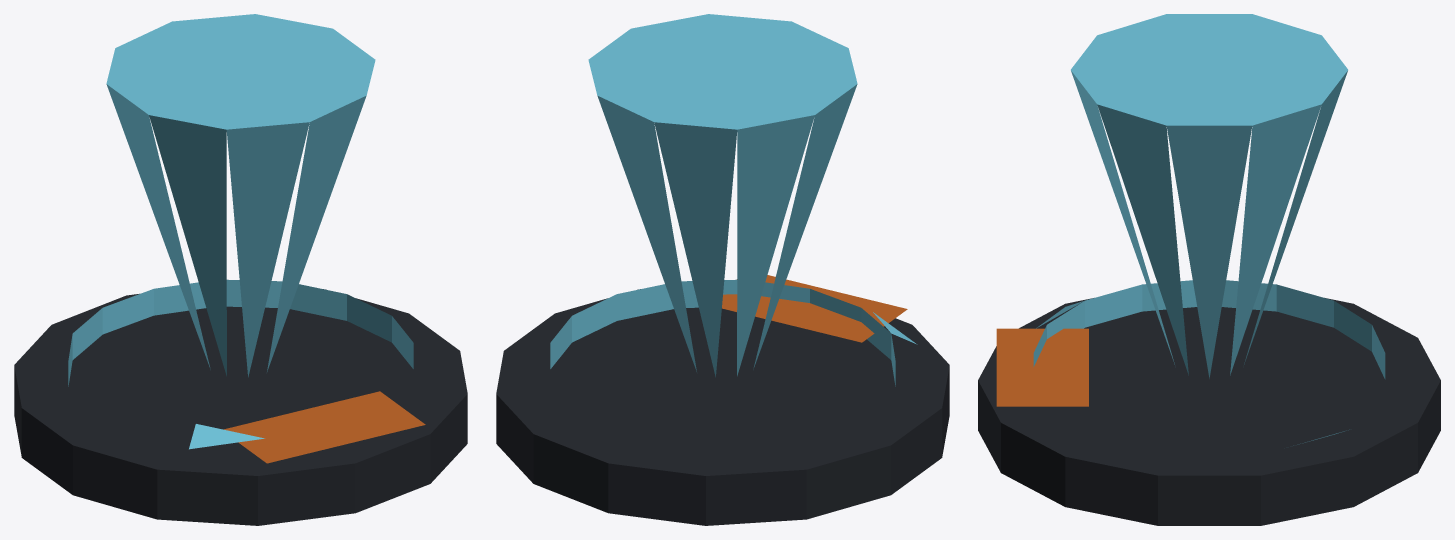
The model's file is portable-teleporter.lod.glb.
The picture shows the model from 3 angles, left to right: view 1: azimuth 30°, elevation 25°; view 2: azimuth 150°, elevation 25°; view 3: azimuth 270°, elevation 25°; orthographic projection.
Visible parts, largest first — view 1: m; view 2: m; view 3: m.
Boxes of the visible parts, box(x1,y1,x2,y2) form: m: box(14, 14, 467, 525); m: box(496, 14, 949, 525); m: box(978, 14, 1440, 525).
Bounding box in the file's own units: 0.1 × 0.0882 × 0.1026.
